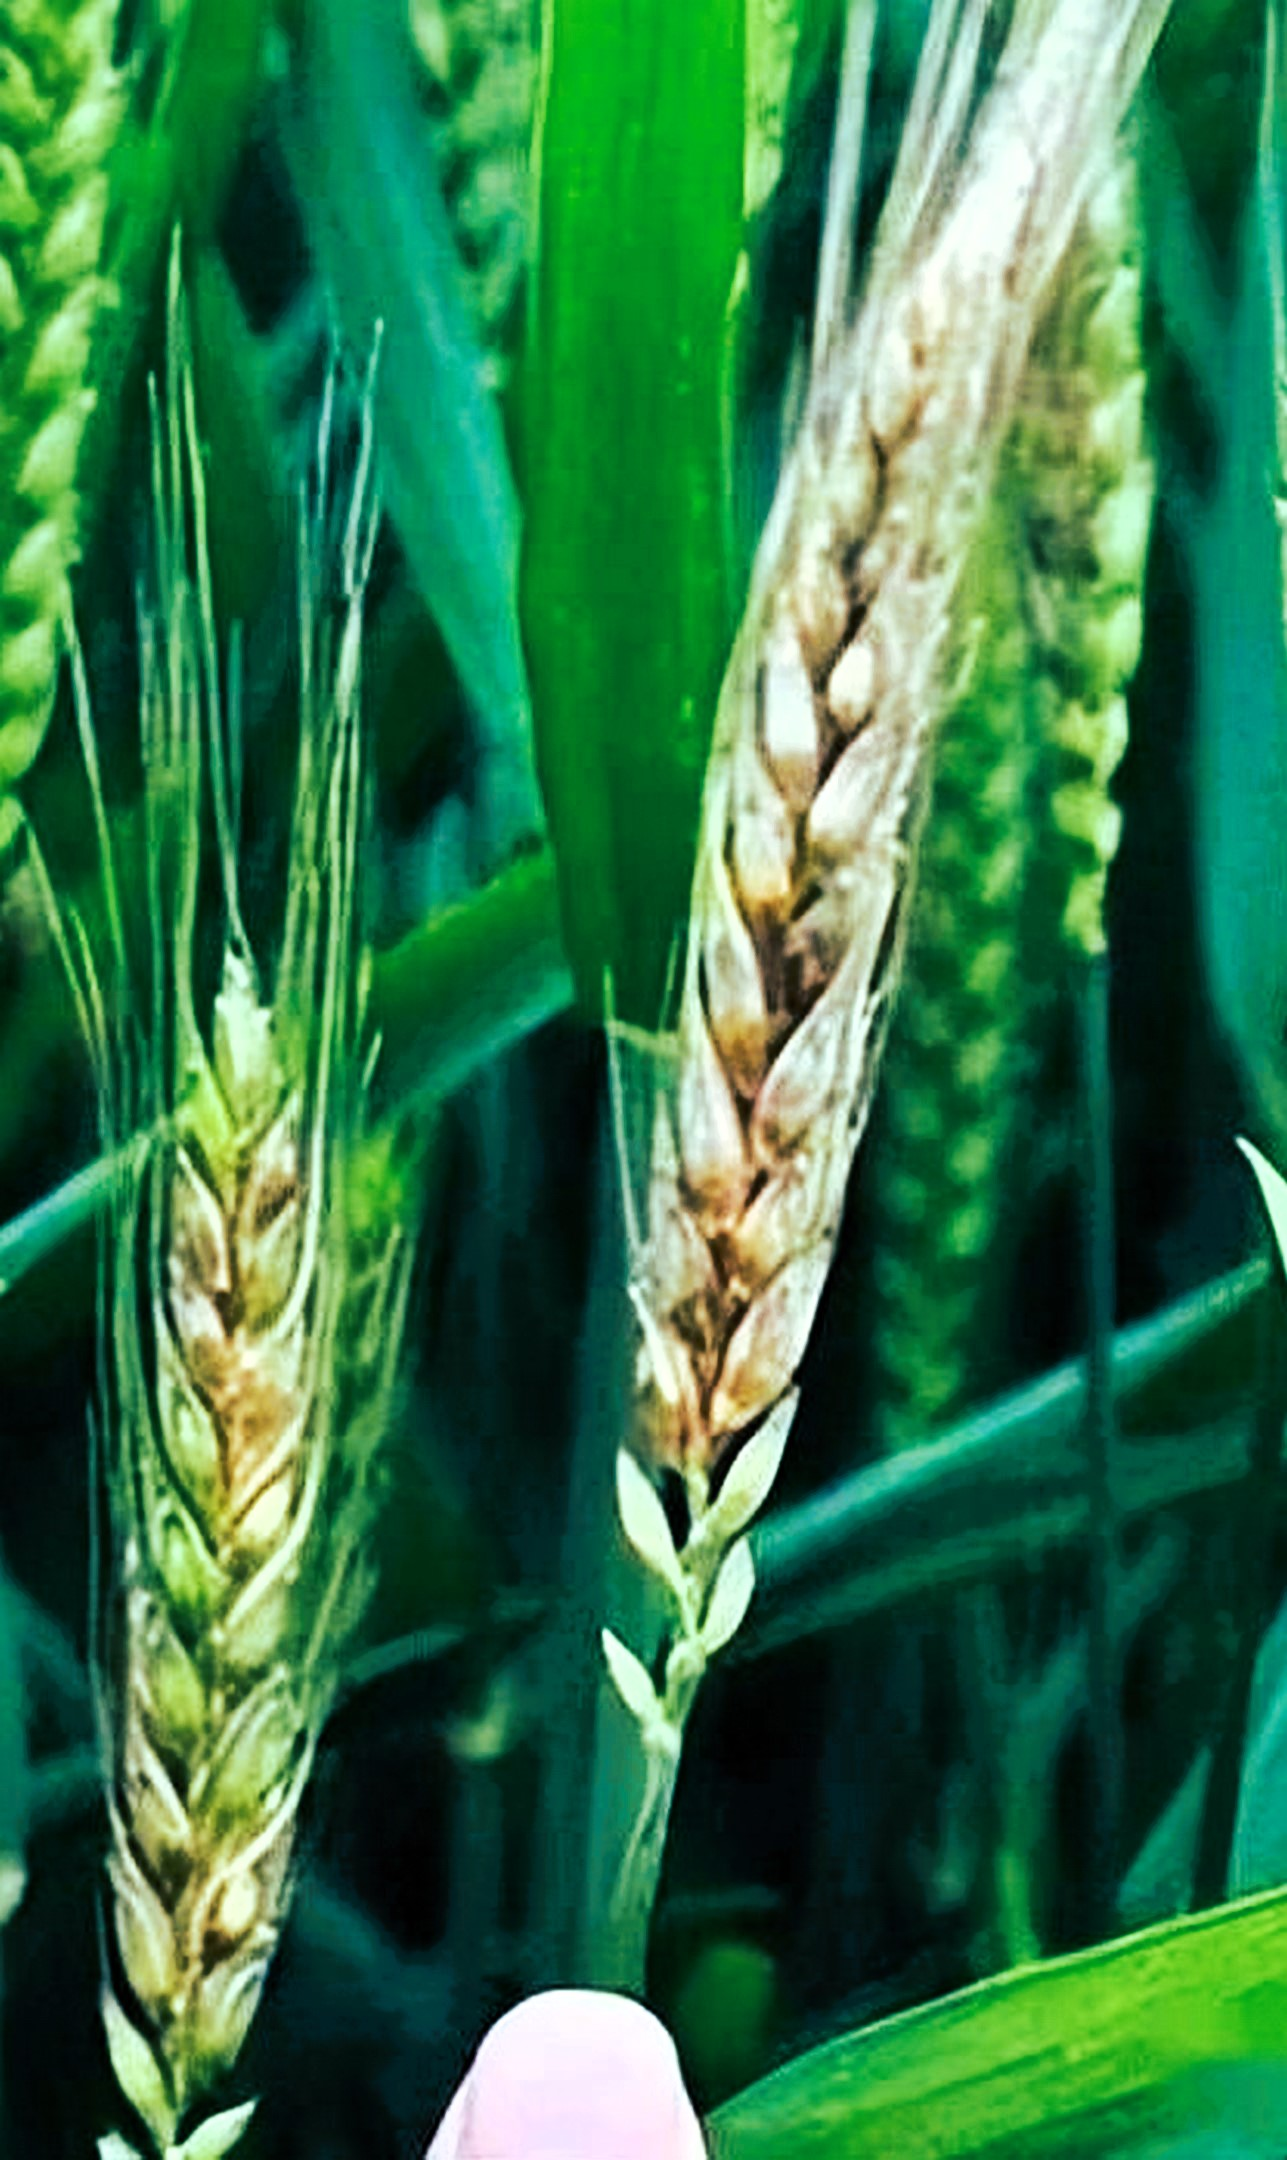Wheat scab: (608, 242, 1028, 1497), (98, 968, 363, 2139)
